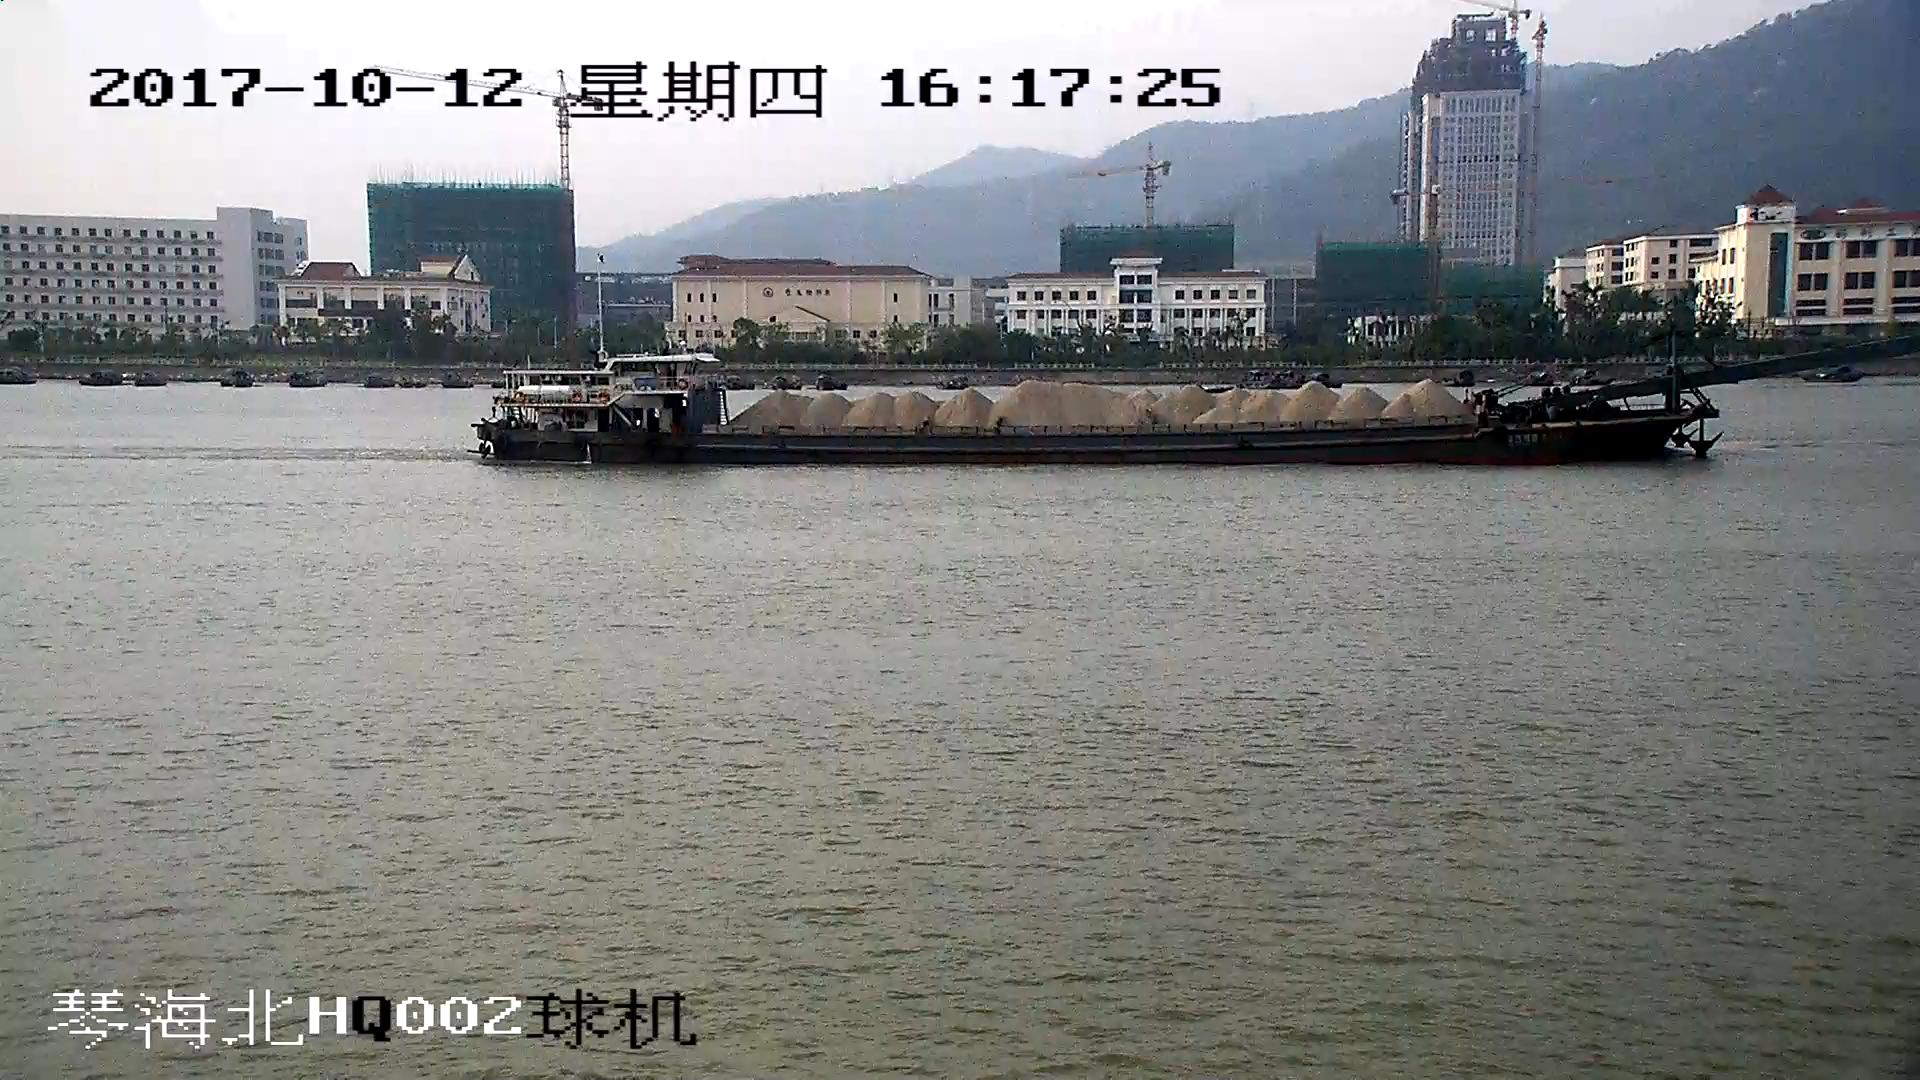ore carrier: (479, 328, 1920, 463)
